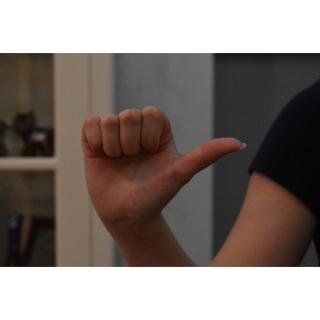DAD: (76, 102, 249, 240)
